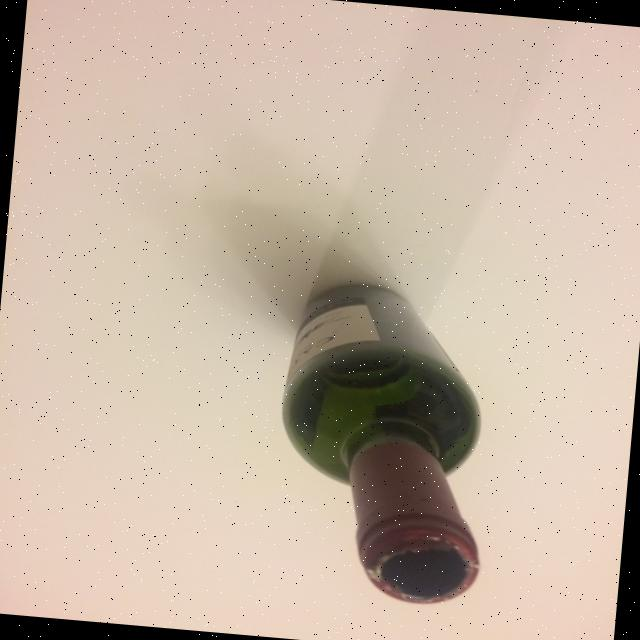glass: (263, 5, 546, 610), (264, 276, 504, 608)
